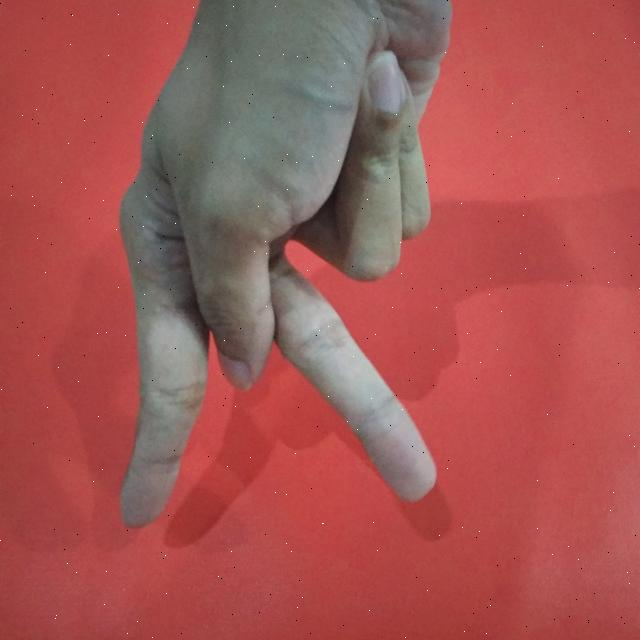P: (111, 0, 480, 532)
